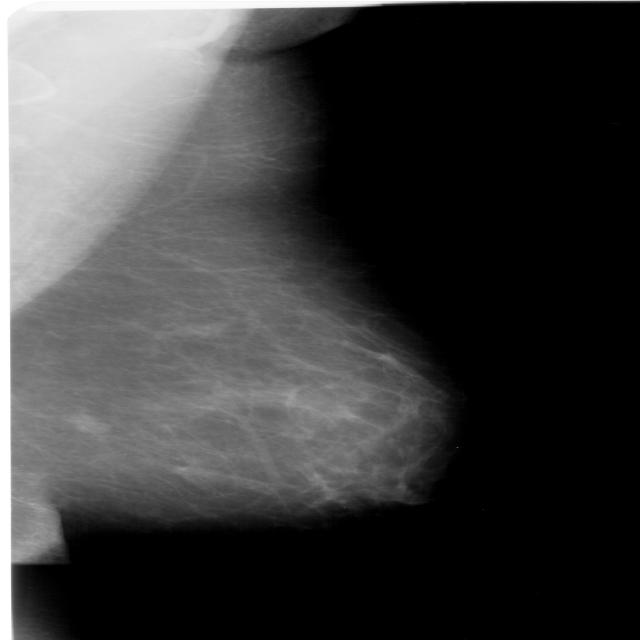normal: (0, 55, 441, 539)
